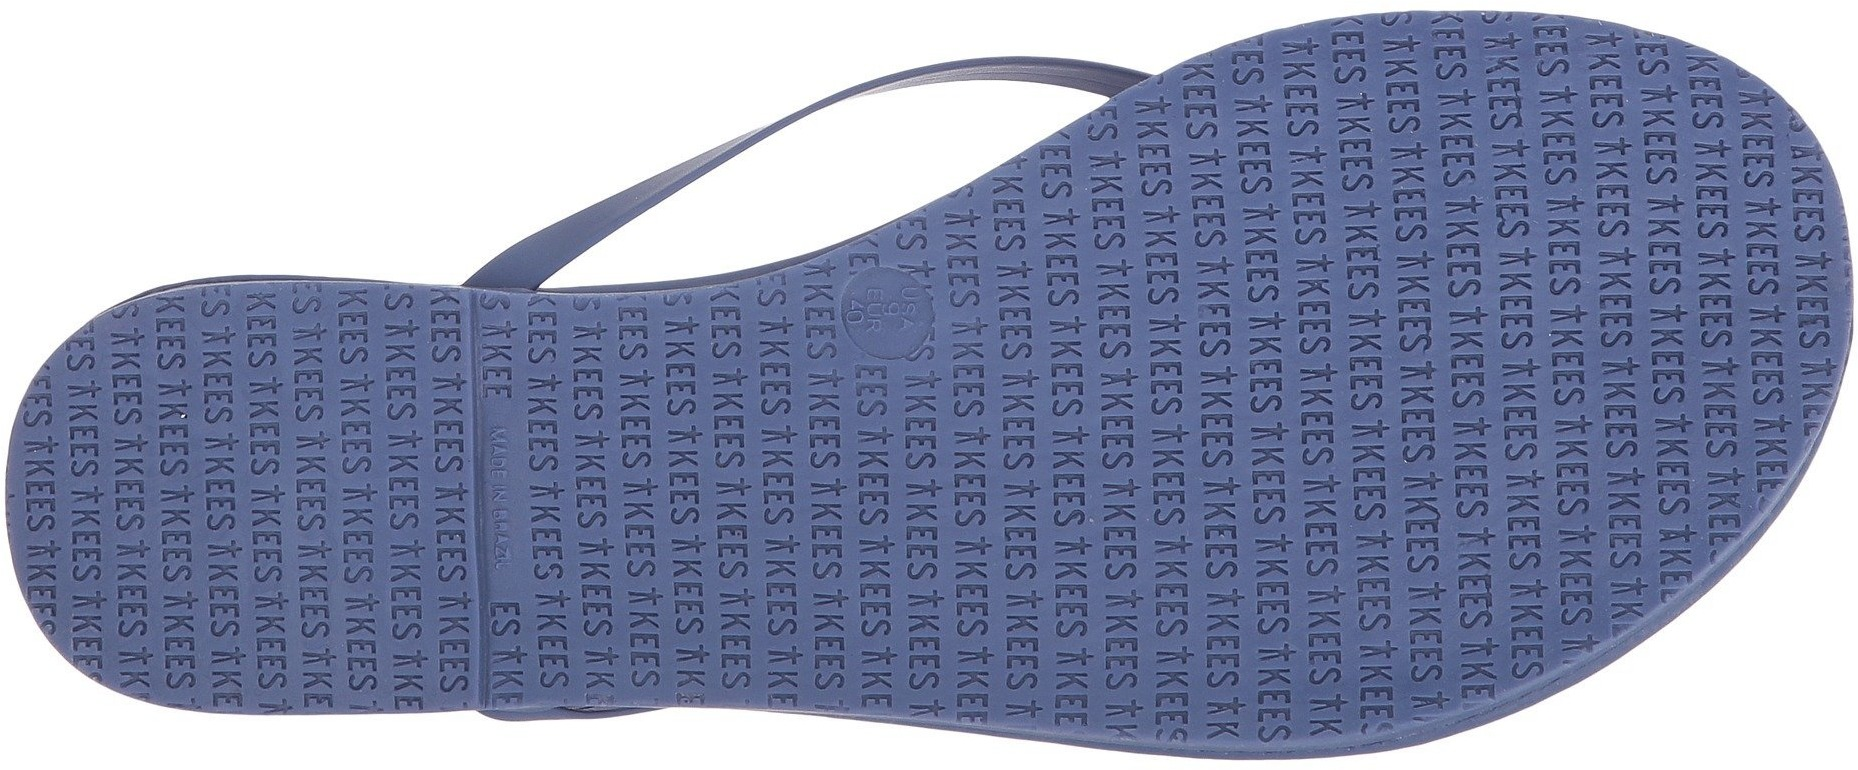text: (1466, 58, 1751, 315), (1170, 100, 1457, 306), (508, 306, 738, 541), (747, 381, 957, 629), (1300, 466, 1537, 669), (1042, 521, 1261, 733), (33, 406, 248, 621), (263, 303, 473, 518), (1557, 319, 1755, 540), (1119, 303, 1296, 498), (927, 225, 1115, 406), (280, 530, 448, 697), (562, 553, 692, 692), (1424, 331, 1553, 458), (140, 291, 251, 391), (166, 628, 267, 717), (1553, 543, 1648, 633), (1376, 15, 1456, 86)
